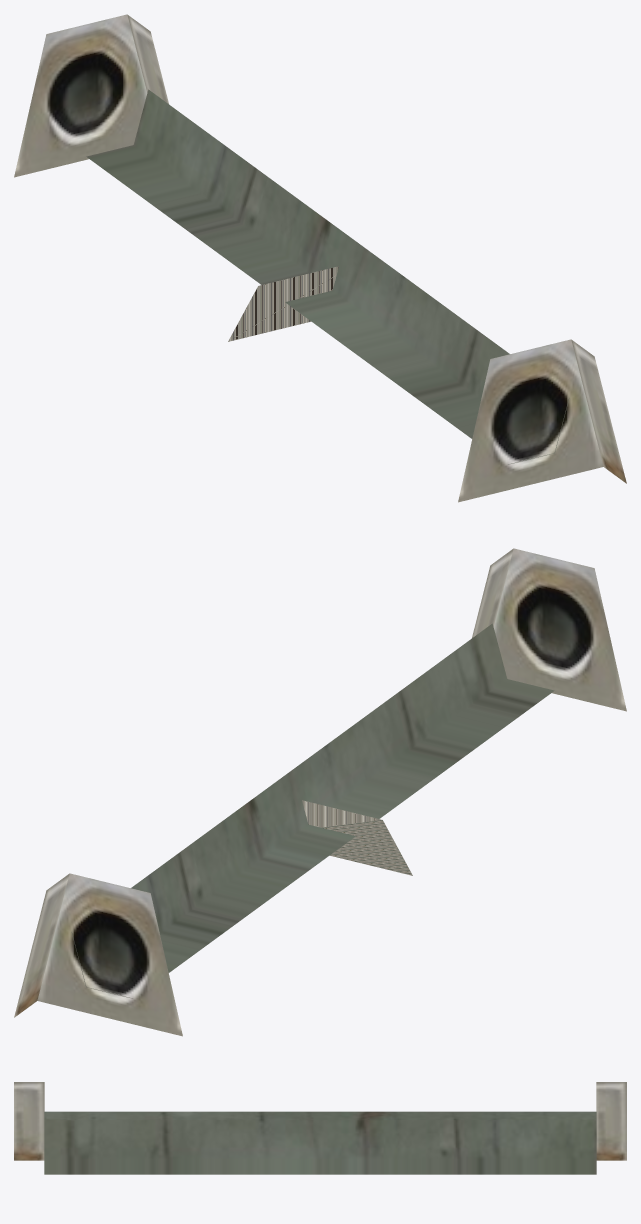
Rendered from straightpipe2_hdtex.glb.
The picture shows the model from 3 angles, top to bottom: view 1: azimuth 30°, elevation 25°; view 2: azimuth 150°, elevation 25°; view 3: azimuth 270°, elevation 25°; orthographic projection. The views are drawn at different scales.
Parts seen in each view (by area): view 1: Straight2; view 2: Straight2; view 3: Straight2.
Boxes of the visible parts, x1,y1,x2,y2 form: Straight2: [14, 14, 626, 502]; Straight2: [14, 548, 626, 1036]; Straight2: [14, 1082, 626, 1174].
Size of the model in its own units: 3.41 by 2.73 by 17.04.
1 material, 1 textured.
